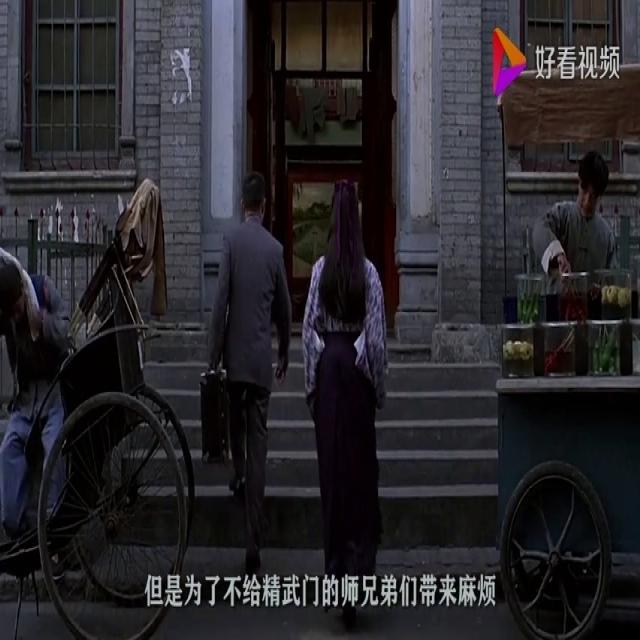non-fight: (302, 173, 388, 614), (199, 168, 293, 569), (0, 243, 71, 581)
